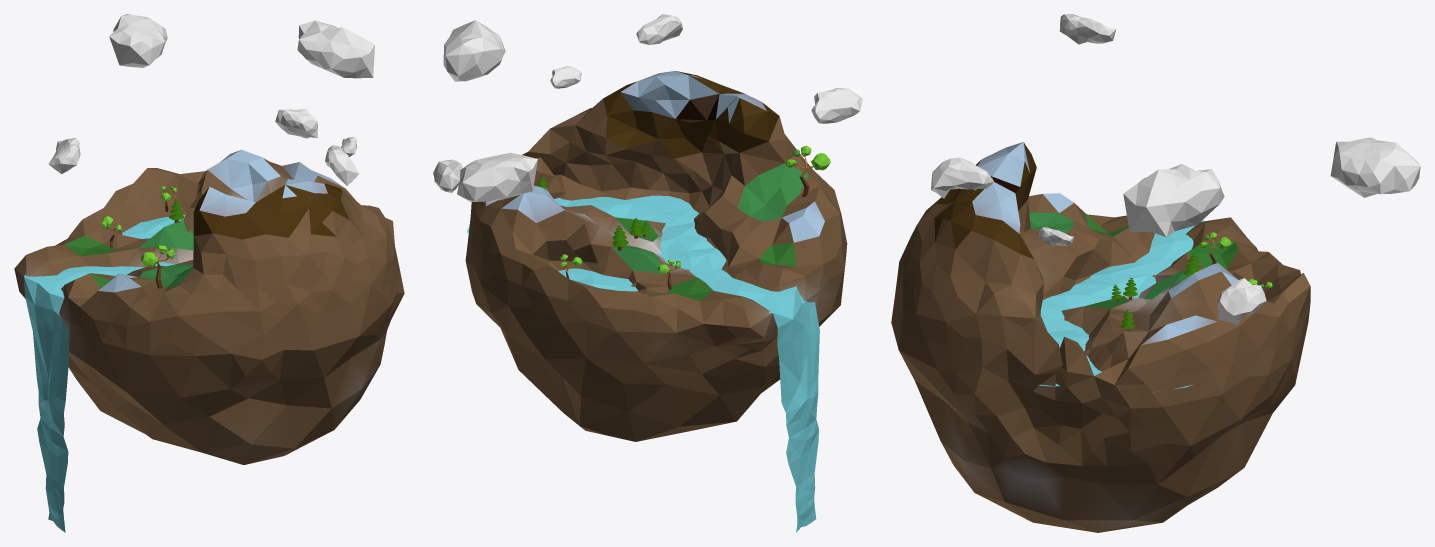
File: island07.glb
3 renders of one model, left to right at view 1: azimuth 30°, elevation 25°; view 2: azimuth 150°, elevation 25°; view 3: azimuth 270°, elevation 25°, orthographic. The views are drawn at different scales.
Visible parts, largest first — view 1: Icosphere, Plane, Icosphere.006, Icosphere.010, Icosphere.007, Icosphere.008, Icosphere.011, Cube.001; view 2: Icosphere, Plane, Icosphere.010, Icosphere.006, Icosphere.011, Icosphere.008, Icosphere.007, Cube.001, Icosphere.009; view 3: Icosphere, Plane, Icosphere.006, Icosphere.010, Icosphere.008, Icosphere.007, Icosphere.011.
Boxes of the visible parts, <box> form: Icosphere: <box>14,149,404,464</box>; Plane: <box>24,215,185,532</box>; Icosphere.006: <box>297,20,374,78</box>; Icosphere.010: <box>109,14,167,67</box>; Icosphere.007: <box>275,109,317,138</box>; Icosphere.008: <box>325,145,359,185</box>; Icosphere.011: <box>48,138,80,173</box>; Cube.001: <box>141,245,175,288</box>; Icosphere: <box>465,71,847,441</box>; Plane: <box>467,195,819,532</box>; Icosphere.010: <box>457,152,537,201</box>; Icosphere.006: <box>443,20,505,81</box>; Icosphere.011: <box>811,87,862,123</box>; Icosphere.008: <box>636,14,682,44</box>; Icosphere.007: <box>433,159,462,192</box>; Cube.001: <box>785,145,830,196</box>; Icosphere.009: <box>550,66,582,88</box>; Icosphere: <box>891,142,1310,532</box>; Plane: <box>1038,220,1204,392</box>; Icosphere.006: <box>1123,164,1224,237</box>; Icosphere.010: <box>1330,137,1420,197</box>; Icosphere.008: <box>931,157,993,198</box>; Icosphere.007: <box>1217,278,1266,325</box>; Icosphere.011: <box>1059,14,1116,44</box>.
Bounding box in the file's own units: 22.59 × 25.22 × 25.18.
